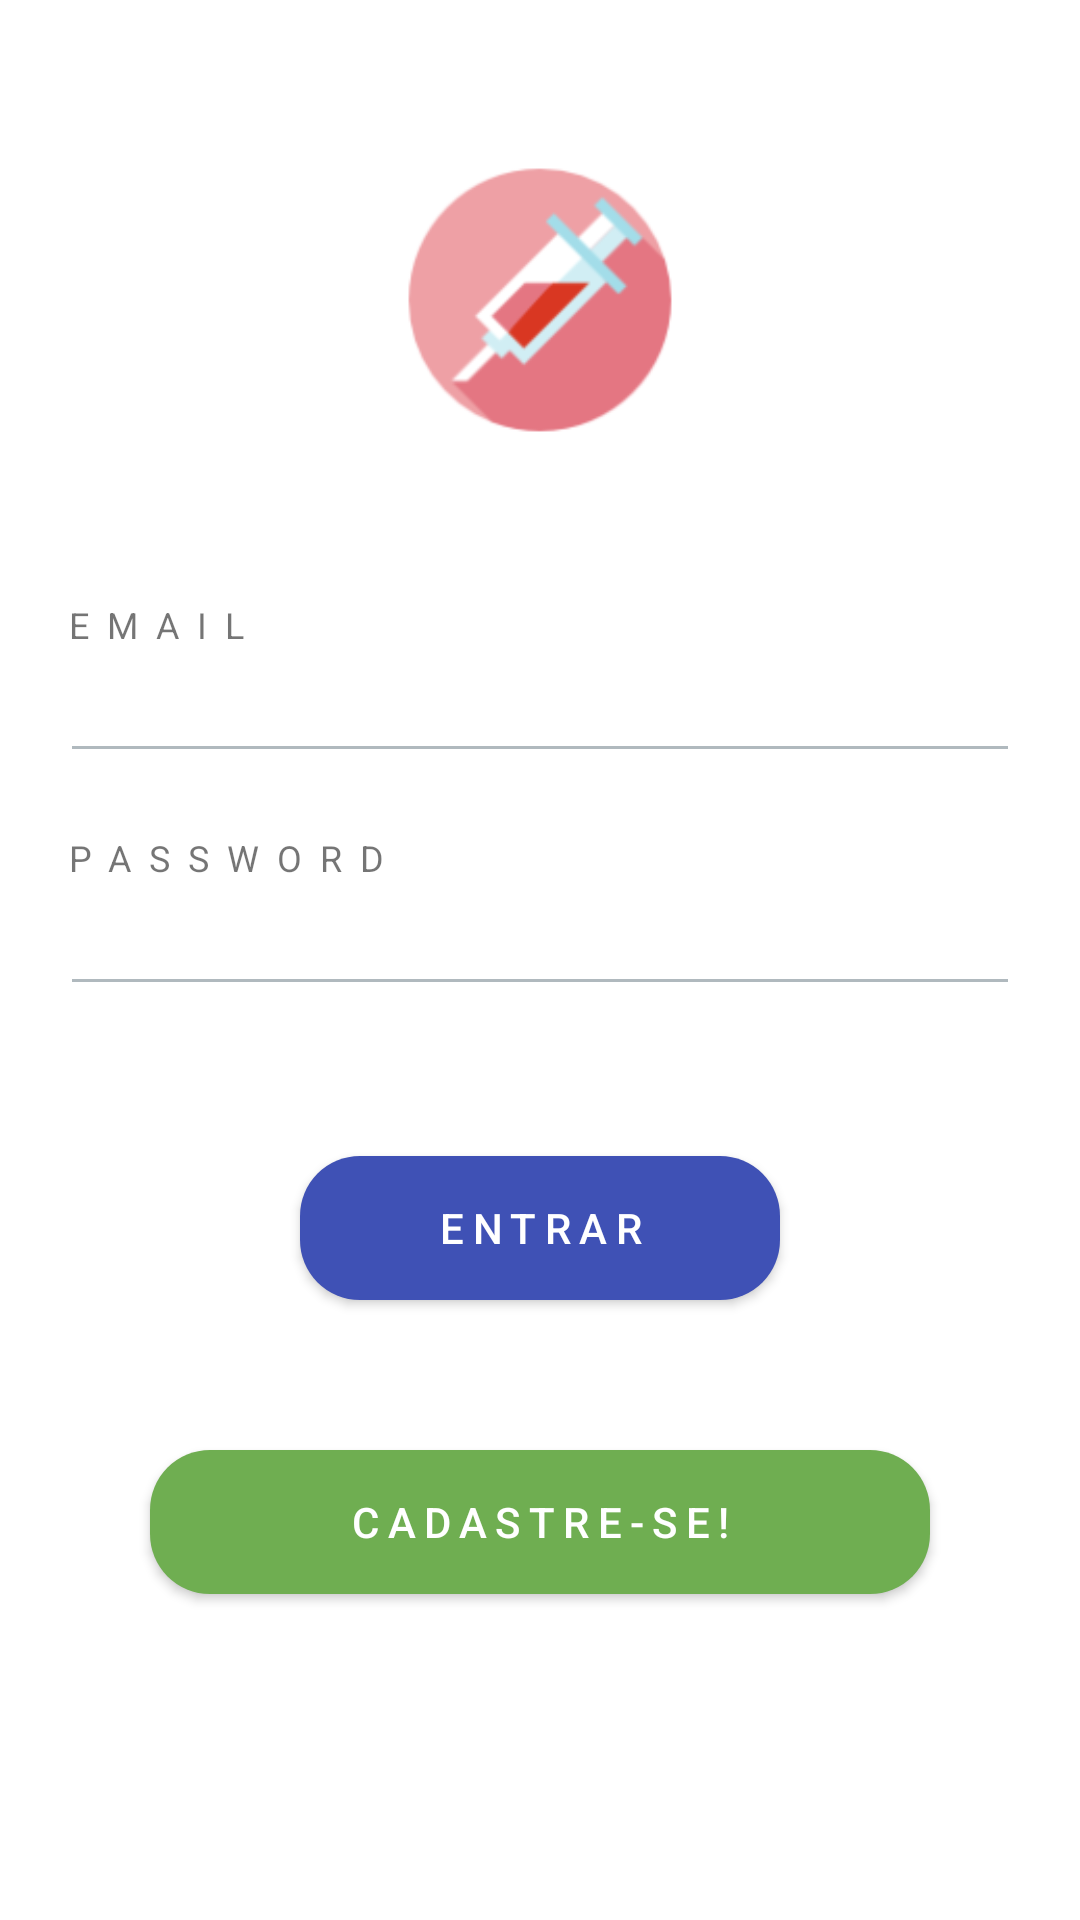

Screen size 1080x1920. Icon name, then its box in pixels as region(x1, y1, x2, y2):
vaccine: region(408, 168, 672, 432)
